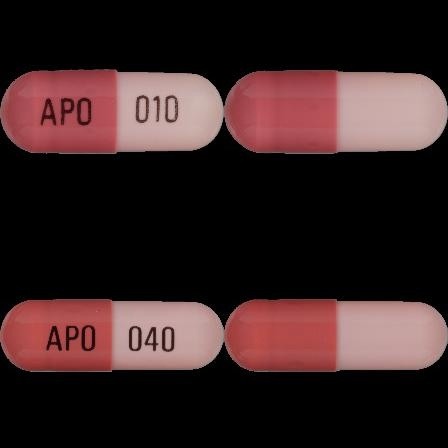60505-0145: (0, 0, 224, 224)
